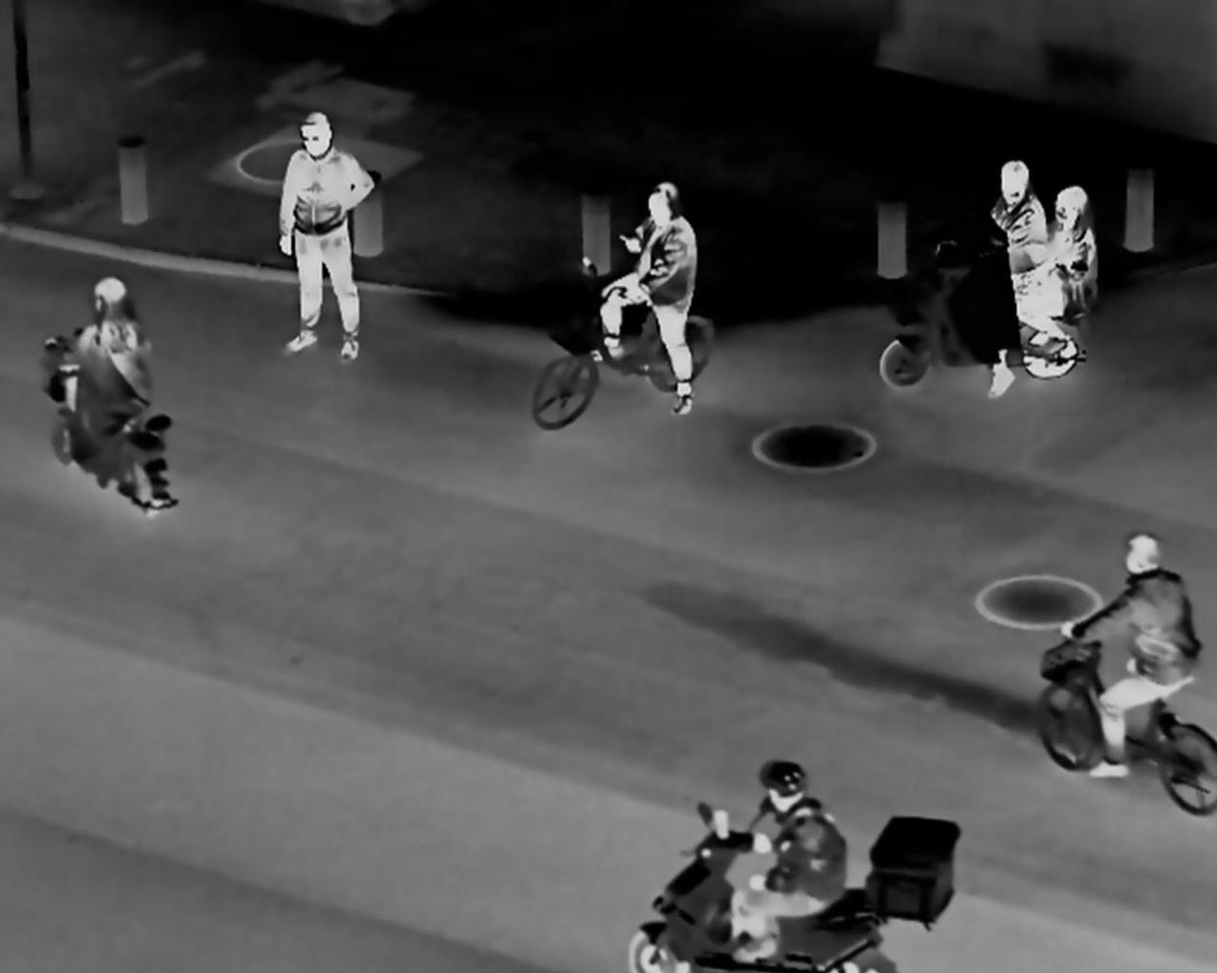person: (1067, 519, 1197, 792), (598, 168, 704, 419), (276, 106, 375, 374), (725, 748, 849, 961), (49, 266, 159, 457), (994, 146, 1047, 356), (1039, 173, 1104, 335)
